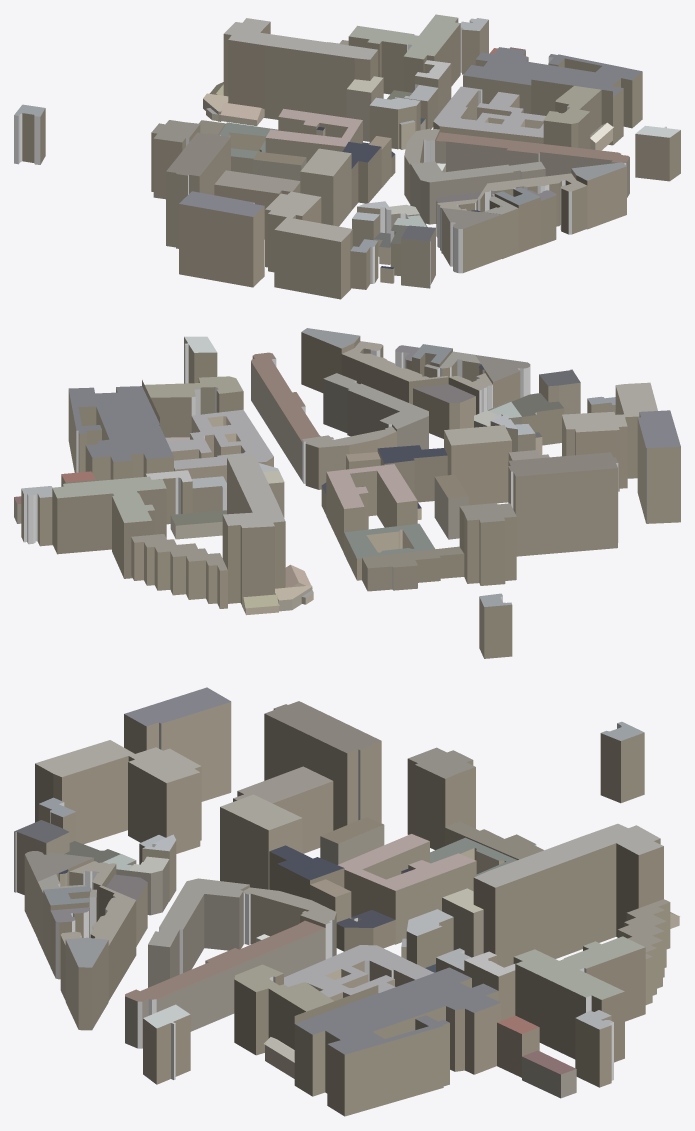
3 views of the same model, one above another, from view 1: azimuth 30°, elevation 25°; view 2: azimuth 150°, elevation 25°; view 3: azimuth 270°, elevation 25° (orthographic). The views are drawn at different scales.
Parts seen in each view (by area): view 1: tuile; view 2: tuile; view 3: tuile.
Part boxes in pixels (box(x1,y1,x2,y2)): tuile: box(14, 14, 680, 299); tuile: box(14, 328, 680, 658); tuile: box(14, 687, 679, 1116).
Size of the model in its own units: 286 by 45.12 by 247.
